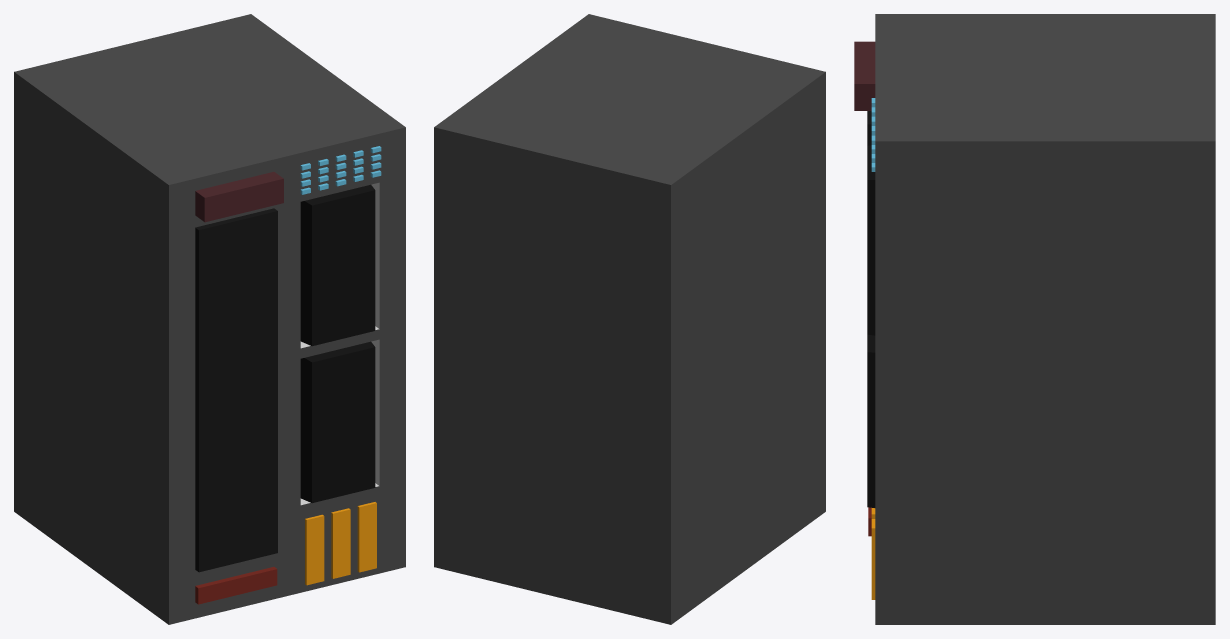
Rendered from servidor 1.fbx.
3 views of the same model, side by side, from view 1: azimuth 30°, elevation 25°; view 2: azimuth 150°, elevation 25°; view 3: azimuth 270°, elevation 25° (orthographic). The views are drawn at different scales.
Visible parts, largest first — view 1: geladeira; view 2: geladeira; view 3: geladeira.
Boxes of the visible parts, box(x1,y1,x2,y2) form: geladeira: box(14, 14, 405, 624); geladeira: box(434, 14, 825, 624); geladeira: box(854, 14, 1215, 624).
Size of the model in its own units: 1248 by 2212 by 1498.
